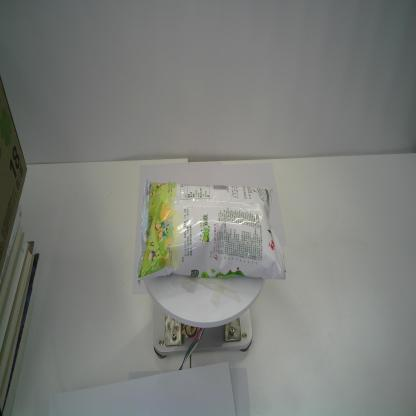Puffed Food: (133, 177, 288, 283)
